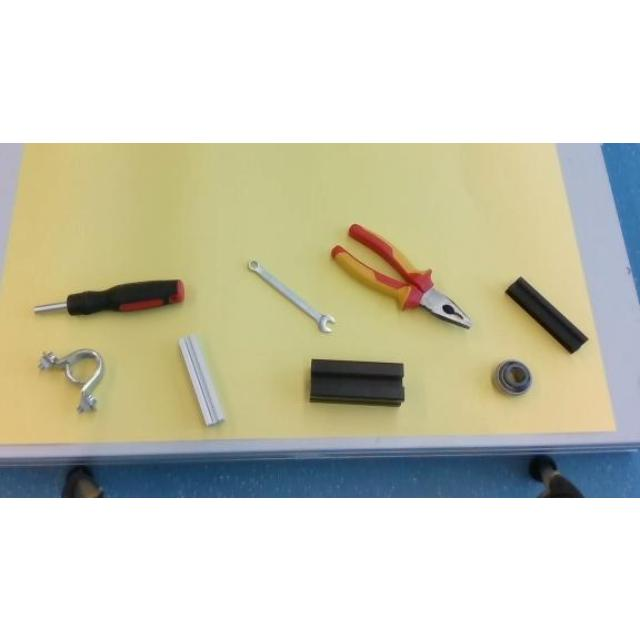Bearing2: (494, 360, 532, 394)
F20_20_B: (506, 276, 588, 352)
F20_20_G: (179, 334, 225, 424)
Housing: (37, 348, 104, 412)
S40_40_B: (311, 358, 404, 406)
